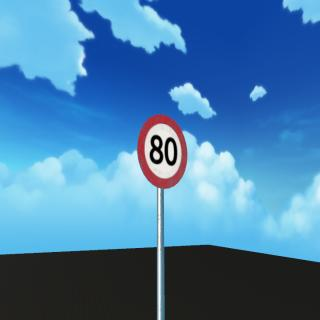speed80: (134, 109, 188, 192)
